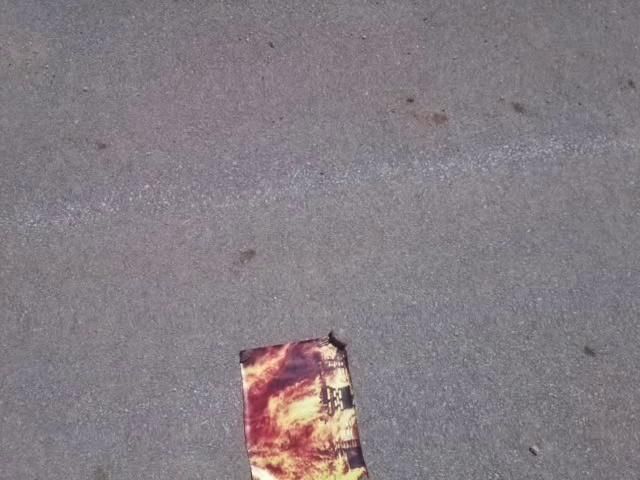fire-poster: (236, 330, 372, 479)
